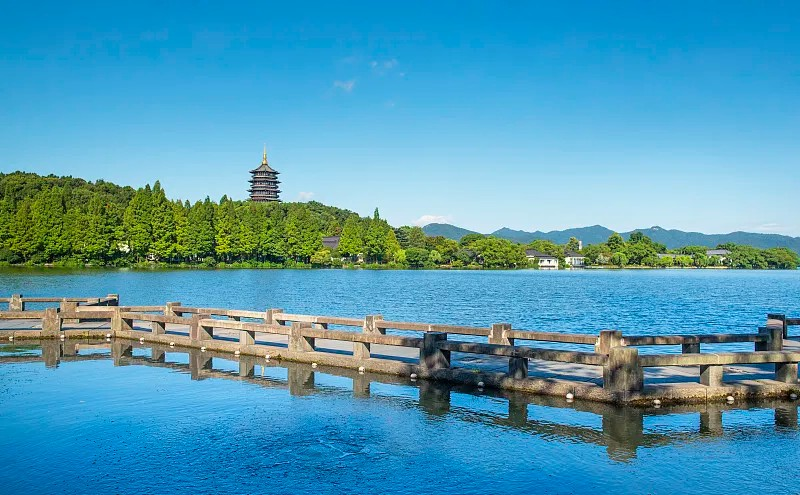Leifeng: (243, 145, 283, 209)
